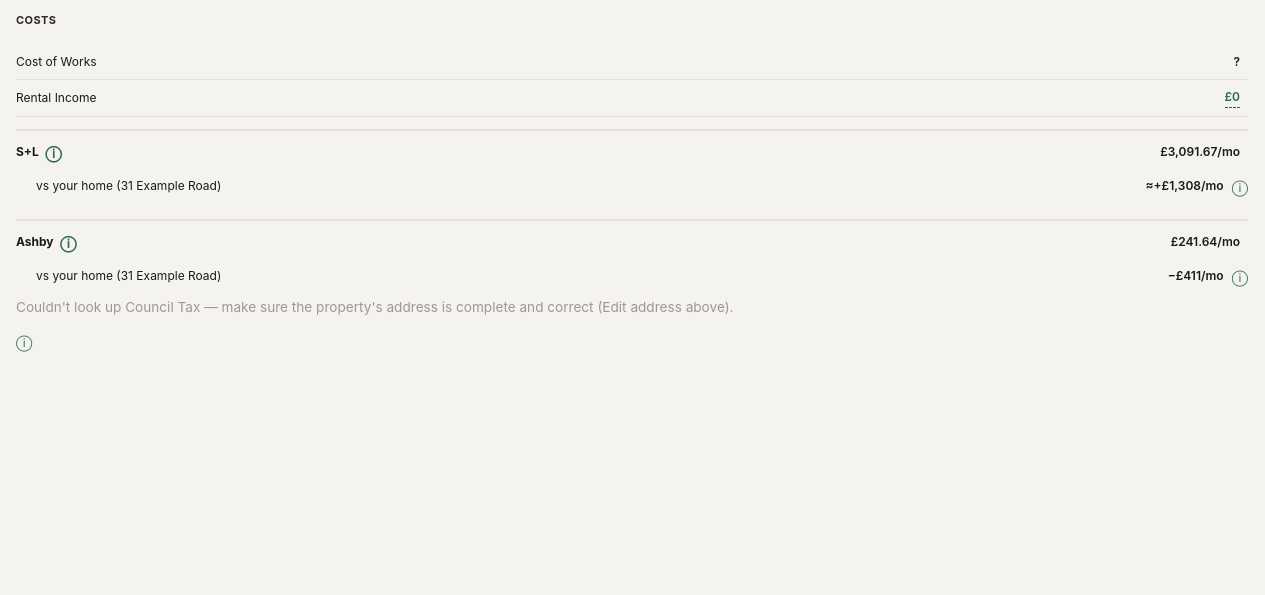
Test case: CostsSection — vs-row provenance widget (defect 1) › renders the standard ⓘ on each vs row, opening the delta derivation
The image size is (1265, 595).
Expected: the number of elements with class "costs-row--vs" is 2, [36,178,1224,192]; [36,268,1224,282]
Click the button "ⓘ" next to "≈+£1,308/mo" at (1240, 186), box [1232,178,1248,194]
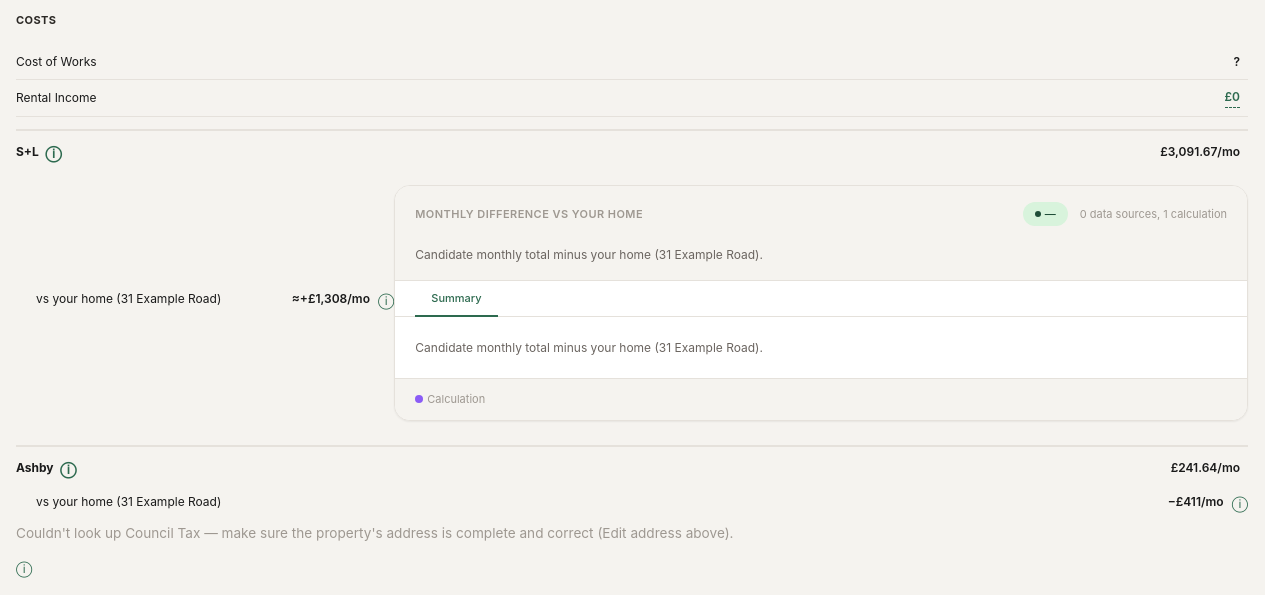
Expected: the text "Monthly difference vs your home" is shown, [415,206,643,222]
